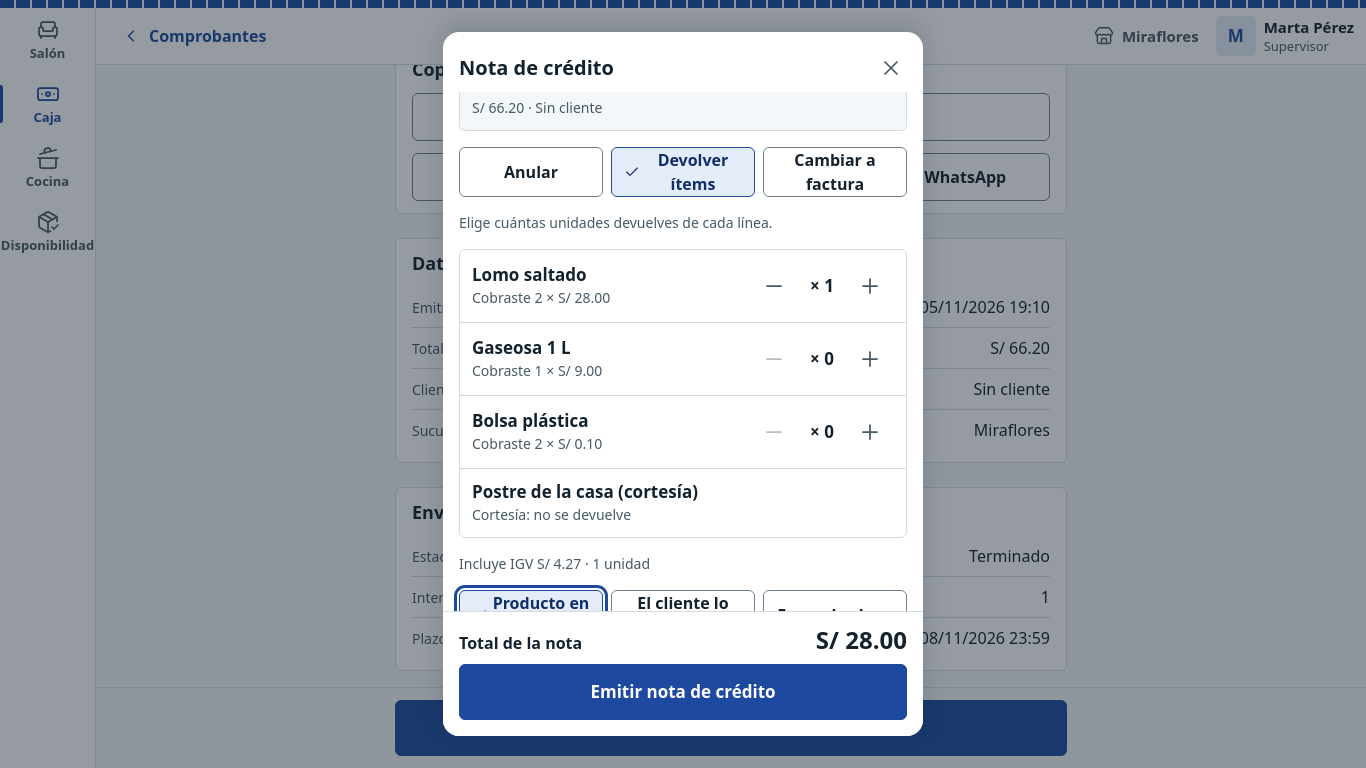
Test: R7 · criterios 153 y 177 · los rechazos previos al reconocimiento del id lo conservan › tras un 403 AUTORIZACION_INVALIDA, el siguiente envío del intento repite el id
Earlier steps of the test are not shown.
(page scrolled)
Click the button "Emitir nota de crédito".
click(683, 692)  # box left=459, top=664, right=907, bottom=720
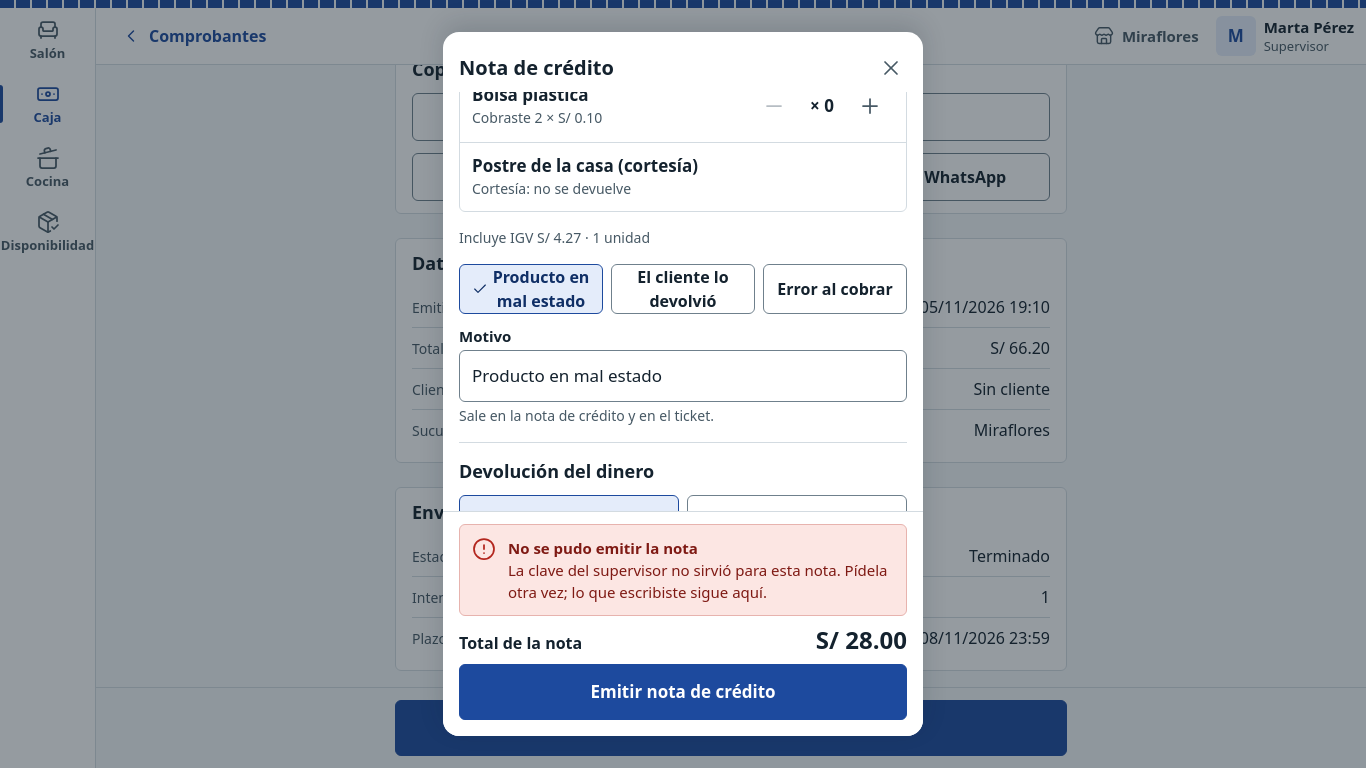
Click the button "Emitir nota de crédito".
click(683, 692)  # box left=459, top=664, right=907, bottom=720
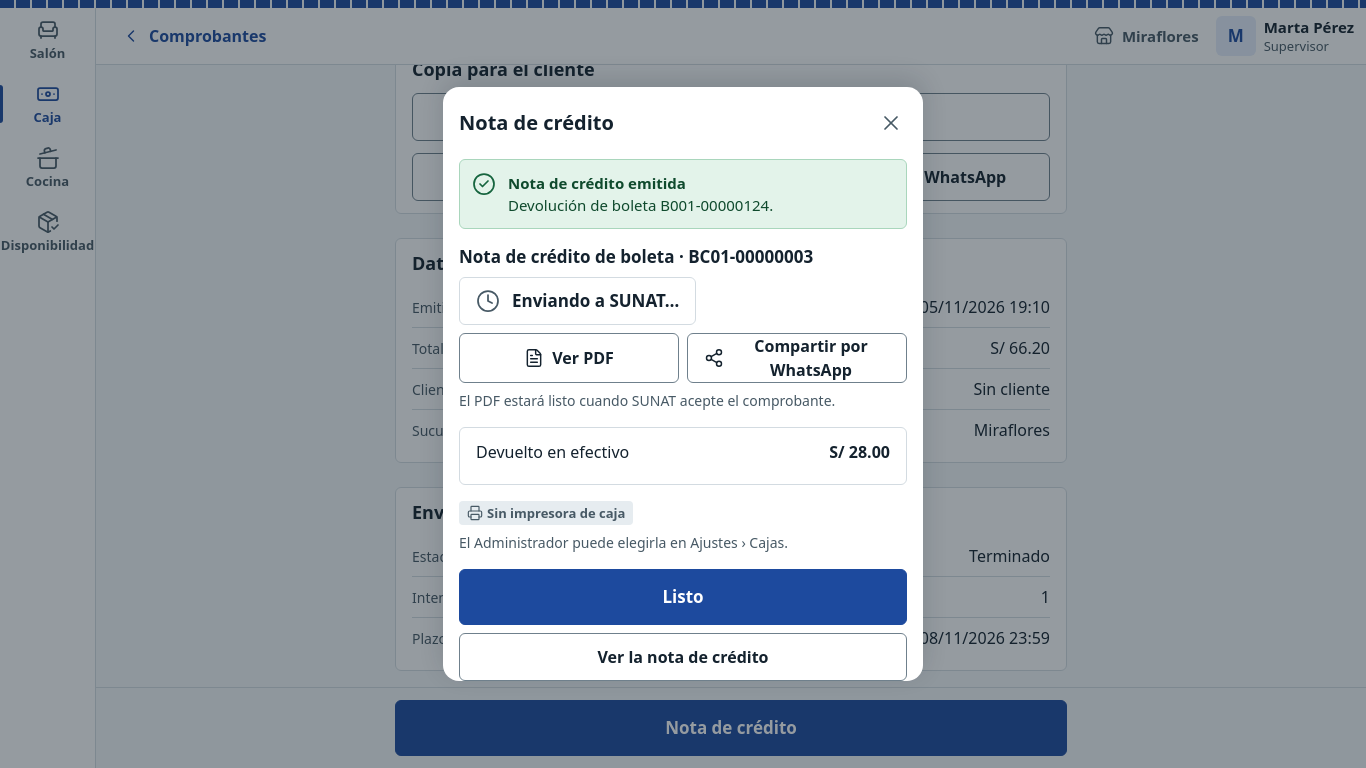
Check: the text "Nota de crédito emitida" is shown, box left=508, top=173, right=686, bottom=193
